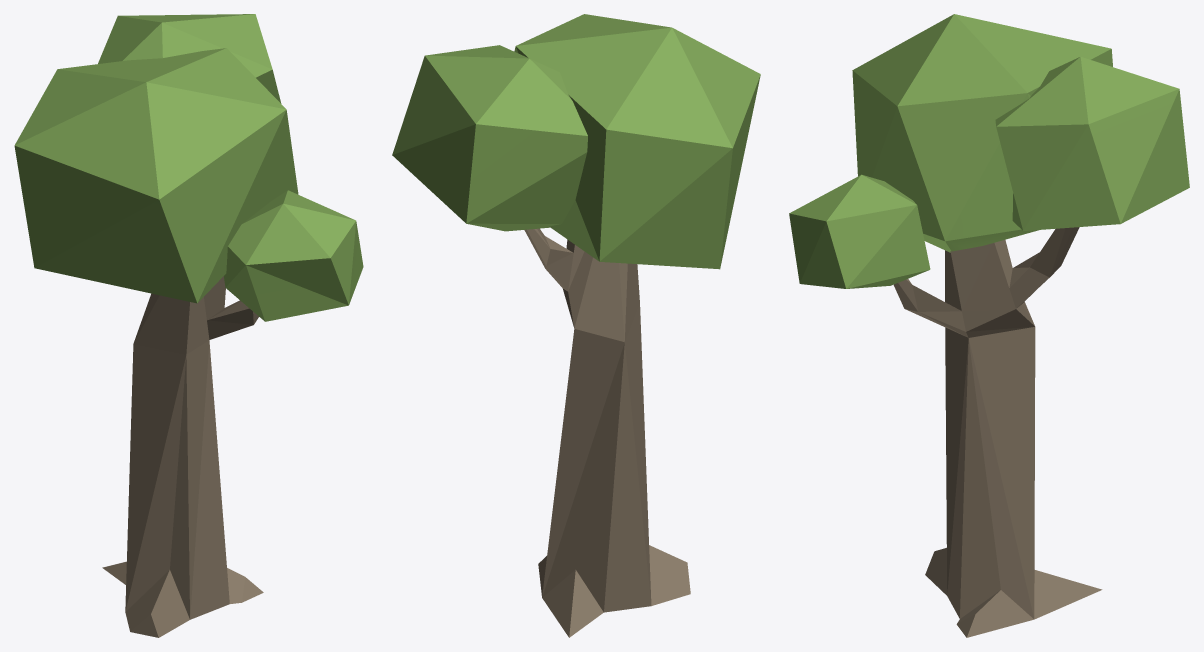
File: Vegetation_Tree_Common_01.fbx
3 renders of one model, left to right at view 1: azimuth 30°, elevation 25°; view 2: azimuth 150°, elevation 25°; view 3: azimuth 270°, elevation 25°, orthographic. The views are drawn at different scales.
Visible parts, largest first — view 1: Vegetation_Tree_Common_01; view 2: Vegetation_Tree_Common_01; view 3: Vegetation_Tree_Common_01.
Boxes of the visible parts, x1=… form: Vegetation_Tree_Common_01: x1=14, y1=14, x2=363, y2=637; Vegetation_Tree_Common_01: x1=392, y1=14, x2=760, y2=637; Vegetation_Tree_Common_01: x1=789, y1=14, x2=1189, y2=637.
Bounding box in the file's own units: 2441 × 4448 × 2877.
